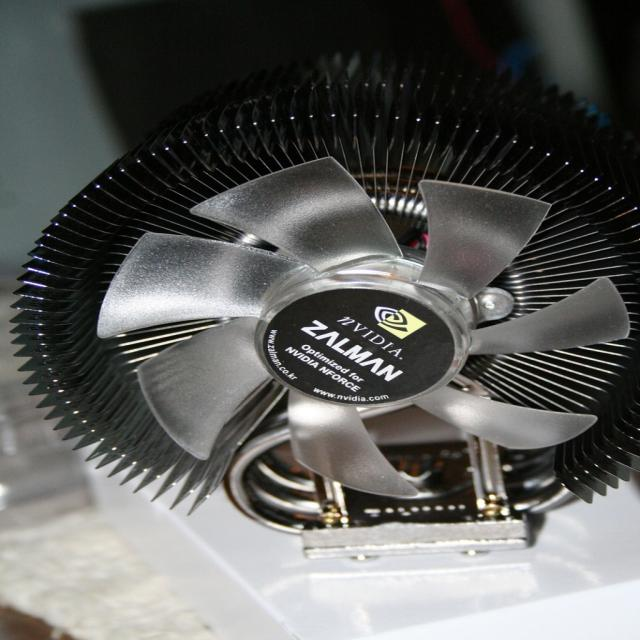nvidia: (372, 307, 427, 341)
